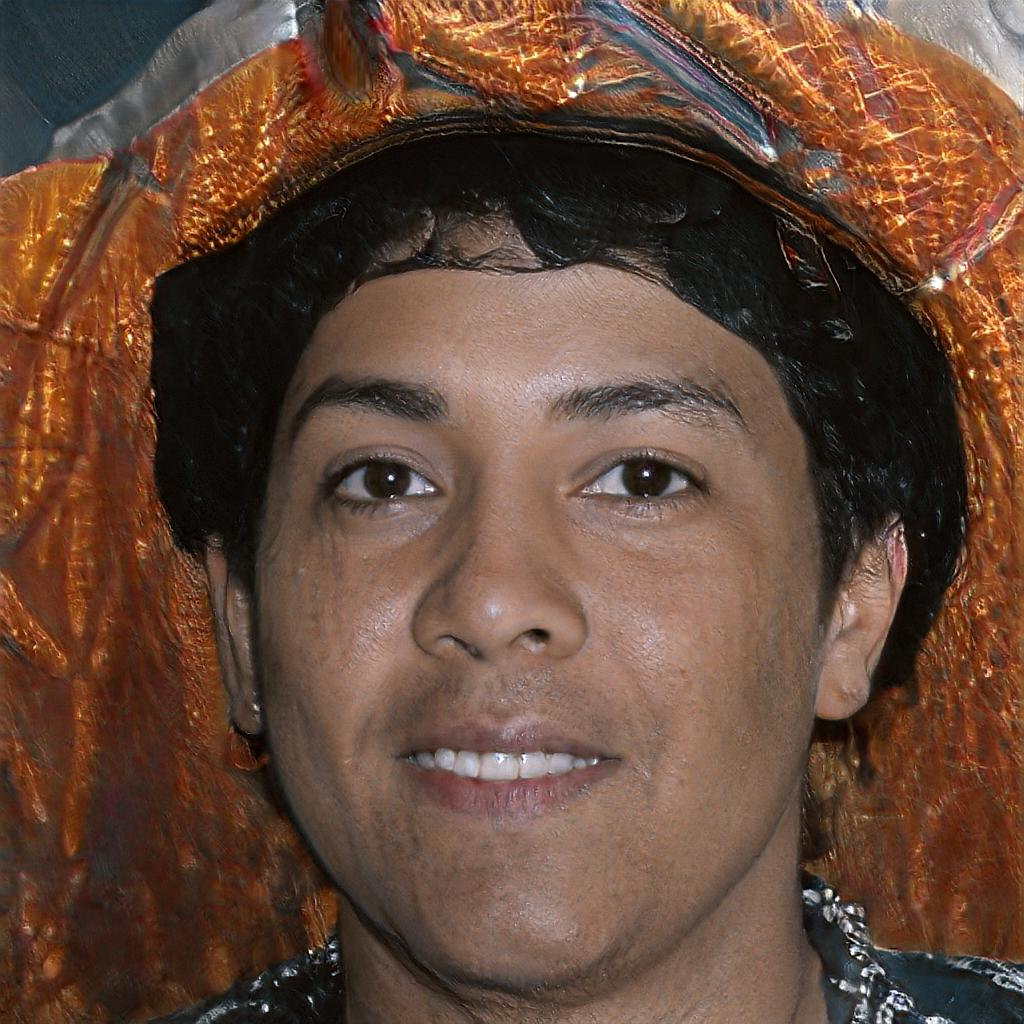face: (256, 217, 822, 990)
